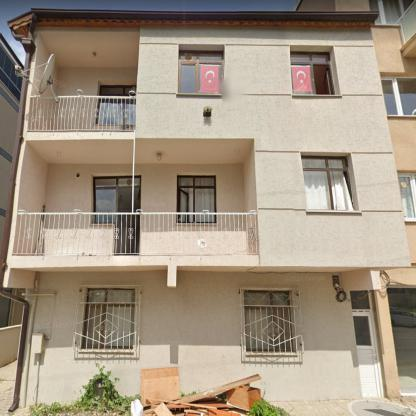door: (353, 312, 383, 396), (115, 187, 140, 254), (124, 99, 136, 130)
window: (82, 289, 134, 347), (387, 289, 415, 392), (245, 290, 292, 350), (302, 156, 354, 210), (179, 51, 223, 93), (291, 52, 335, 94), (93, 177, 132, 223), (177, 176, 215, 223), (96, 86, 136, 125), (381, 77, 415, 115), (0, 46, 22, 102), (370, 0, 413, 24), (398, 173, 415, 218), (351, 290, 371, 311), (134, 177, 140, 185)
